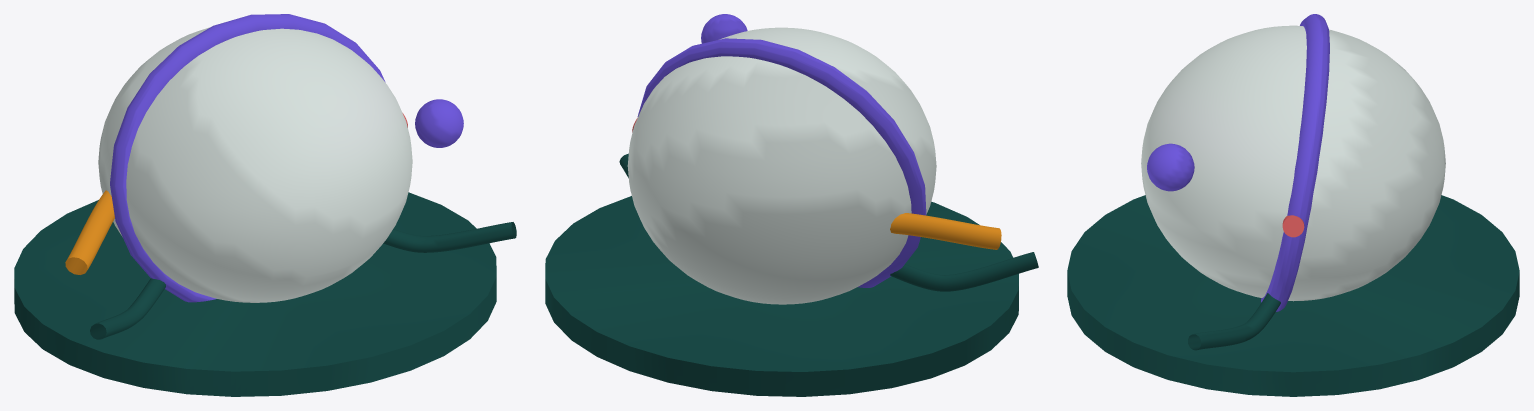
File: 0419_微生物图鉴_黄曲霉菌.glb
The picture shows the model from 3 angles, left to right: view 1: azimuth 30°, elevation 25°; view 2: azimuth 150°, elevation 25°; view 3: azimuth 270°, elevation 25°; orthographic projection. The views are drawn at different scales.
Visible parts, largest first — view 1: card_0419; view 2: card_0419; view 3: card_0419.
Part boxes in pixels (left/top/right/bottom): card_0419: left=14, top=14, right=516, bottom=396; card_0419: left=545, top=14, right=1038, bottom=396; card_0419: left=1067, top=14, right=1519, bottom=396.
Bounding box in the file's own units: 1.65 × 1 × 1.55.
